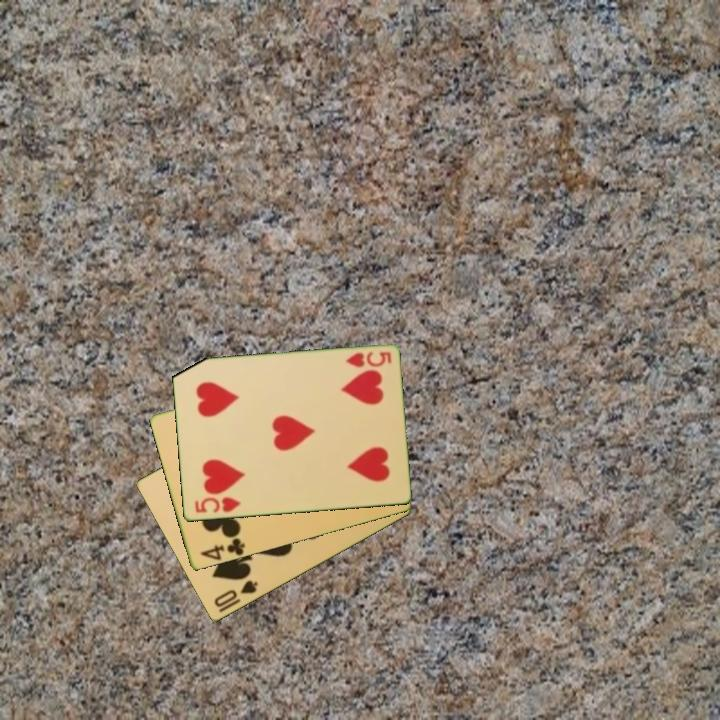10s: (210, 577, 261, 610)
4c: (196, 535, 248, 563)
5h: (341, 348, 394, 370), (191, 494, 243, 516)
